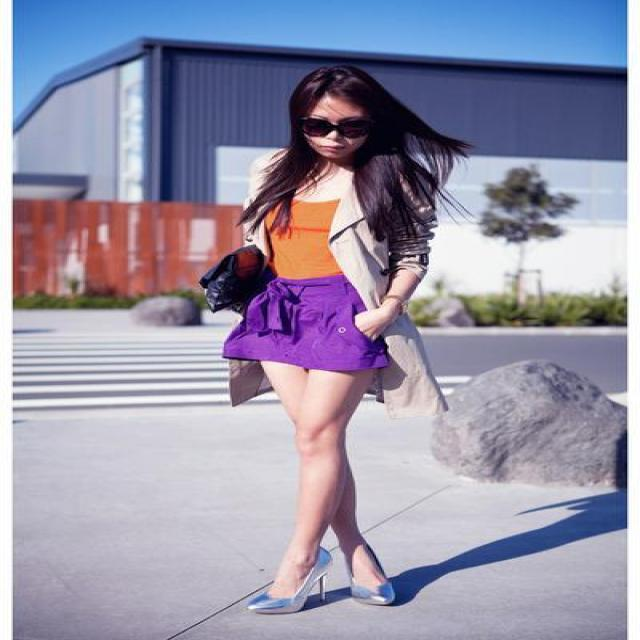bag: (194, 242, 275, 314)
shirt: (270, 198, 342, 278)
skirt: (222, 275, 390, 370)
sunglass: (326, 103, 368, 142)
